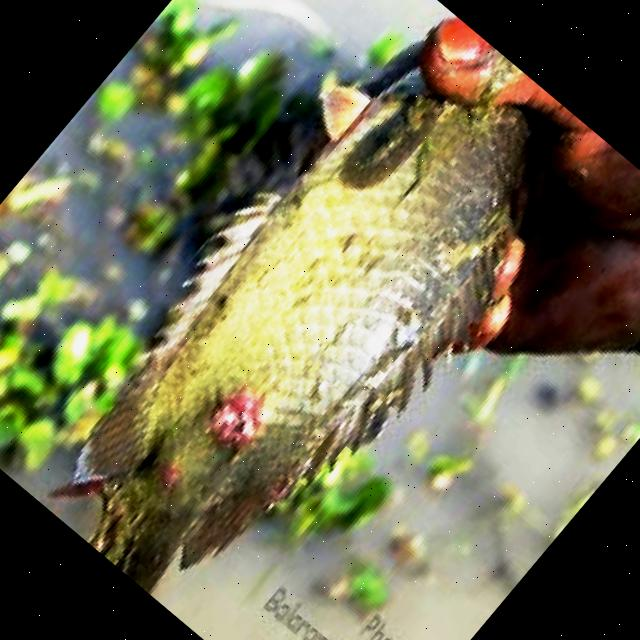Edwardsiella Ictaluri -Bacterial Red Disease-: (57, 69, 528, 592)
